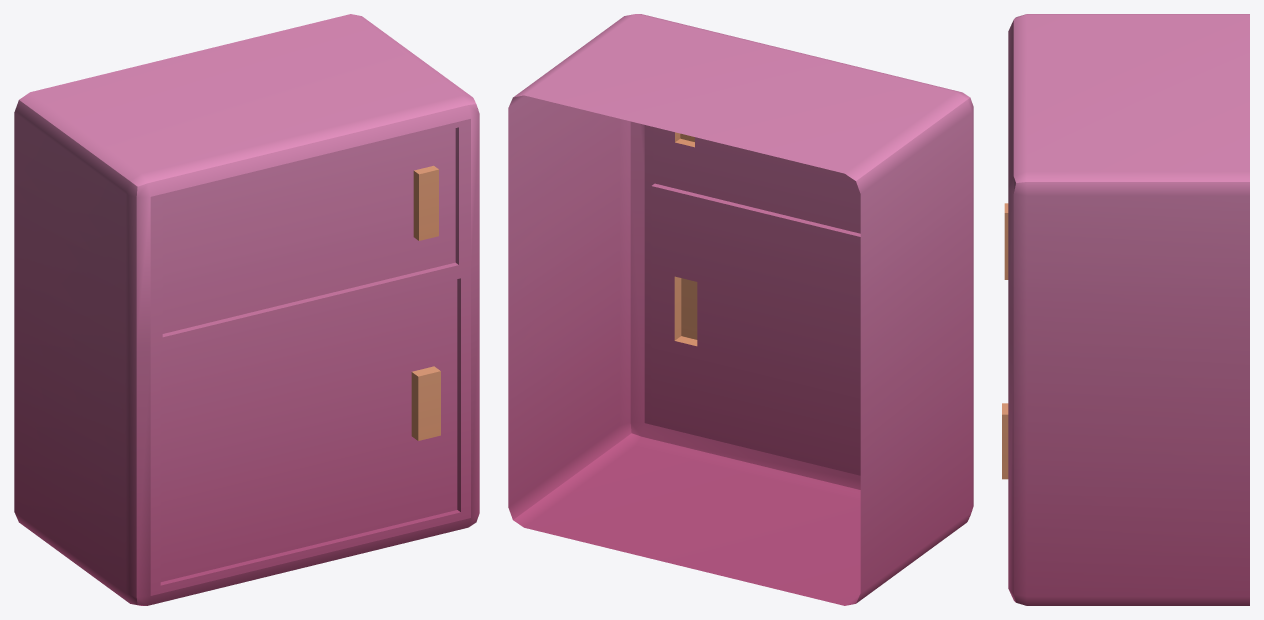
File: Cupboard_1.fbx
The picture shows the model from 3 angles, left to right: view 1: azimuth 30°, elevation 25°; view 2: azimuth 150°, elevation 25°; view 3: azimuth 270°, elevation 25°; orthographic projection.
Parts seen in each view (by area): view 1: Cupboard_1; view 2: Cupboard_1; view 3: Cupboard_1.
Boxes of the visible parts, bbox=[...] form: Cupboard_1: bbox=[14, 14, 479, 605]; Cupboard_1: bbox=[508, 14, 973, 605]; Cupboard_1: bbox=[1002, 14, 1249, 605].
Bounding box in the file's own units: 41.96 × 49.2 × 25.49.
